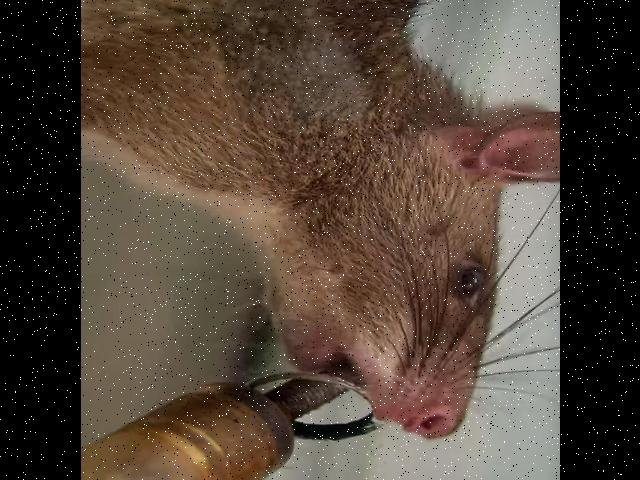Tikus: (288, 0, 560, 445)
